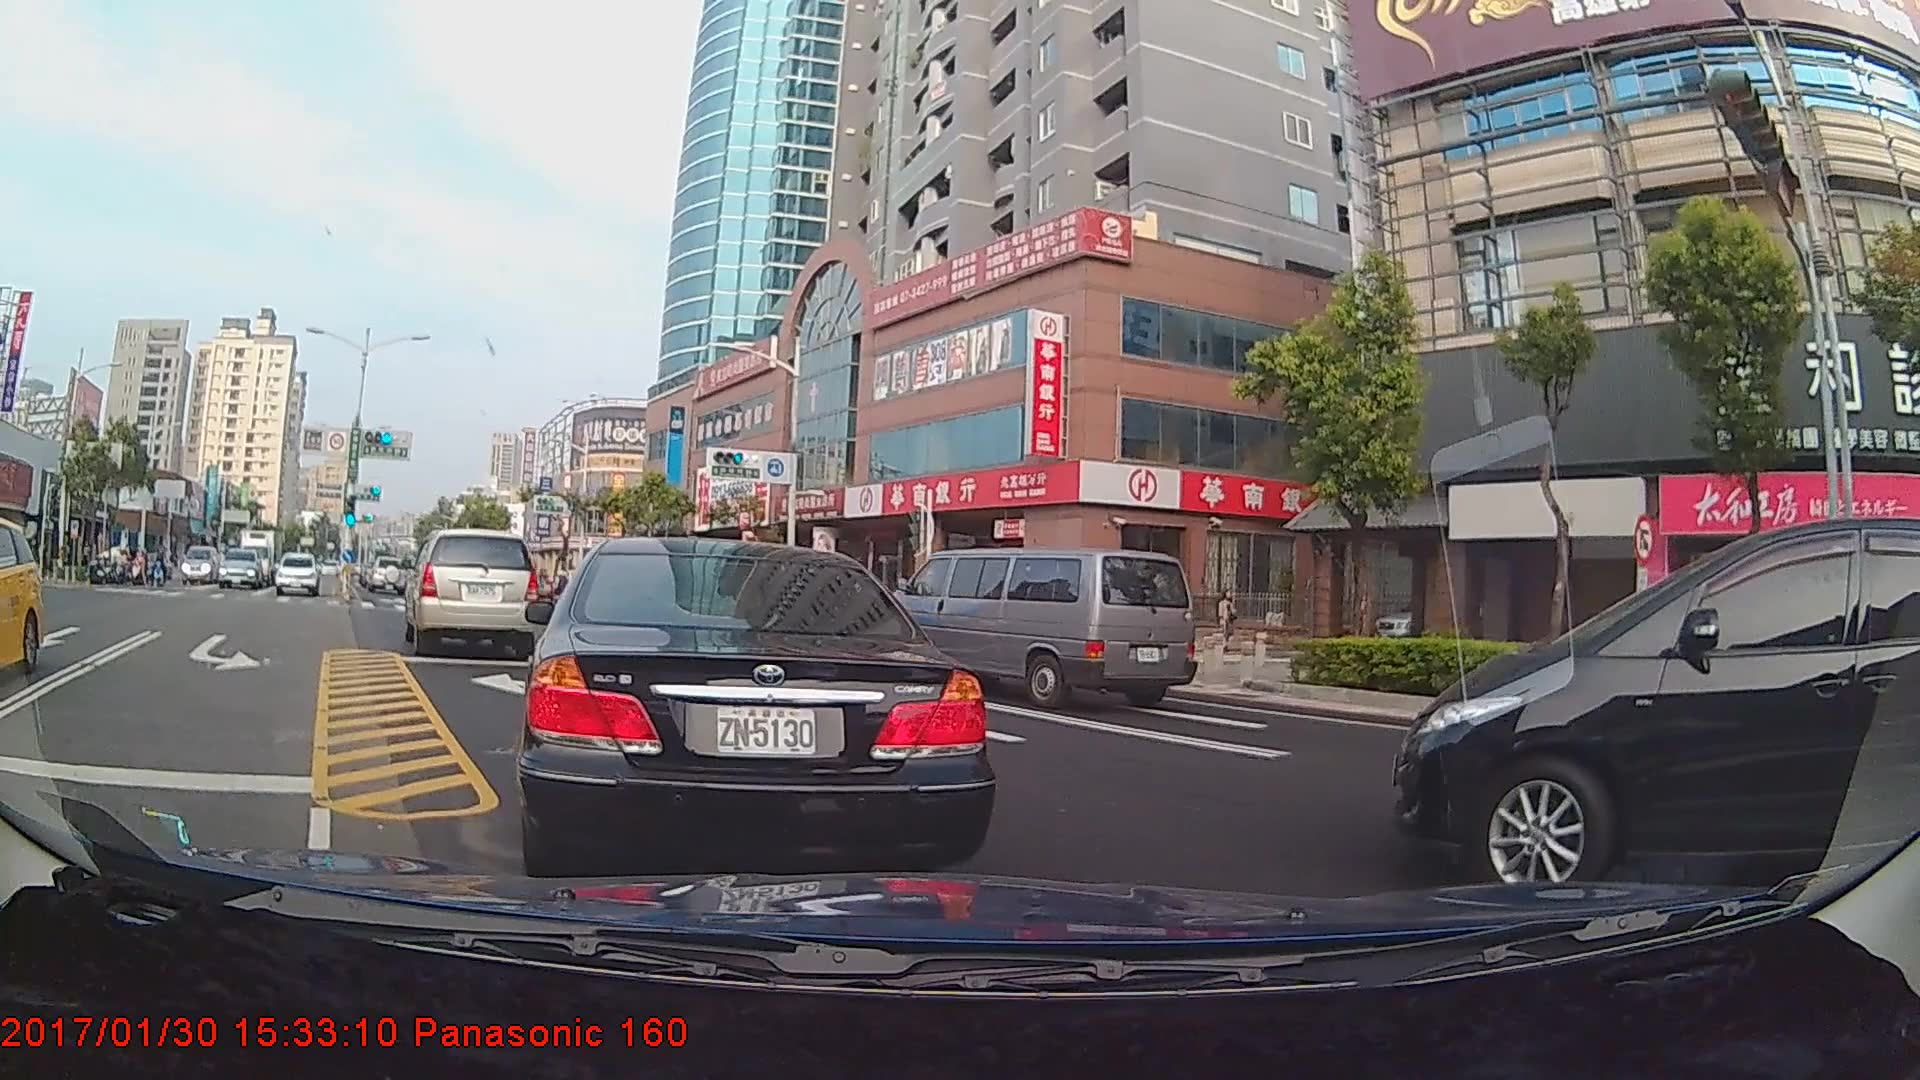pedestrian: (1217, 592, 1240, 652)
vehicle: (1379, 484, 1902, 899), (521, 529, 989, 881), (880, 545, 1198, 713), (406, 529, 544, 654), (0, 511, 43, 687), (236, 525, 287, 578), (273, 550, 321, 597), (218, 547, 265, 589), (363, 553, 403, 593), (181, 545, 222, 585)
